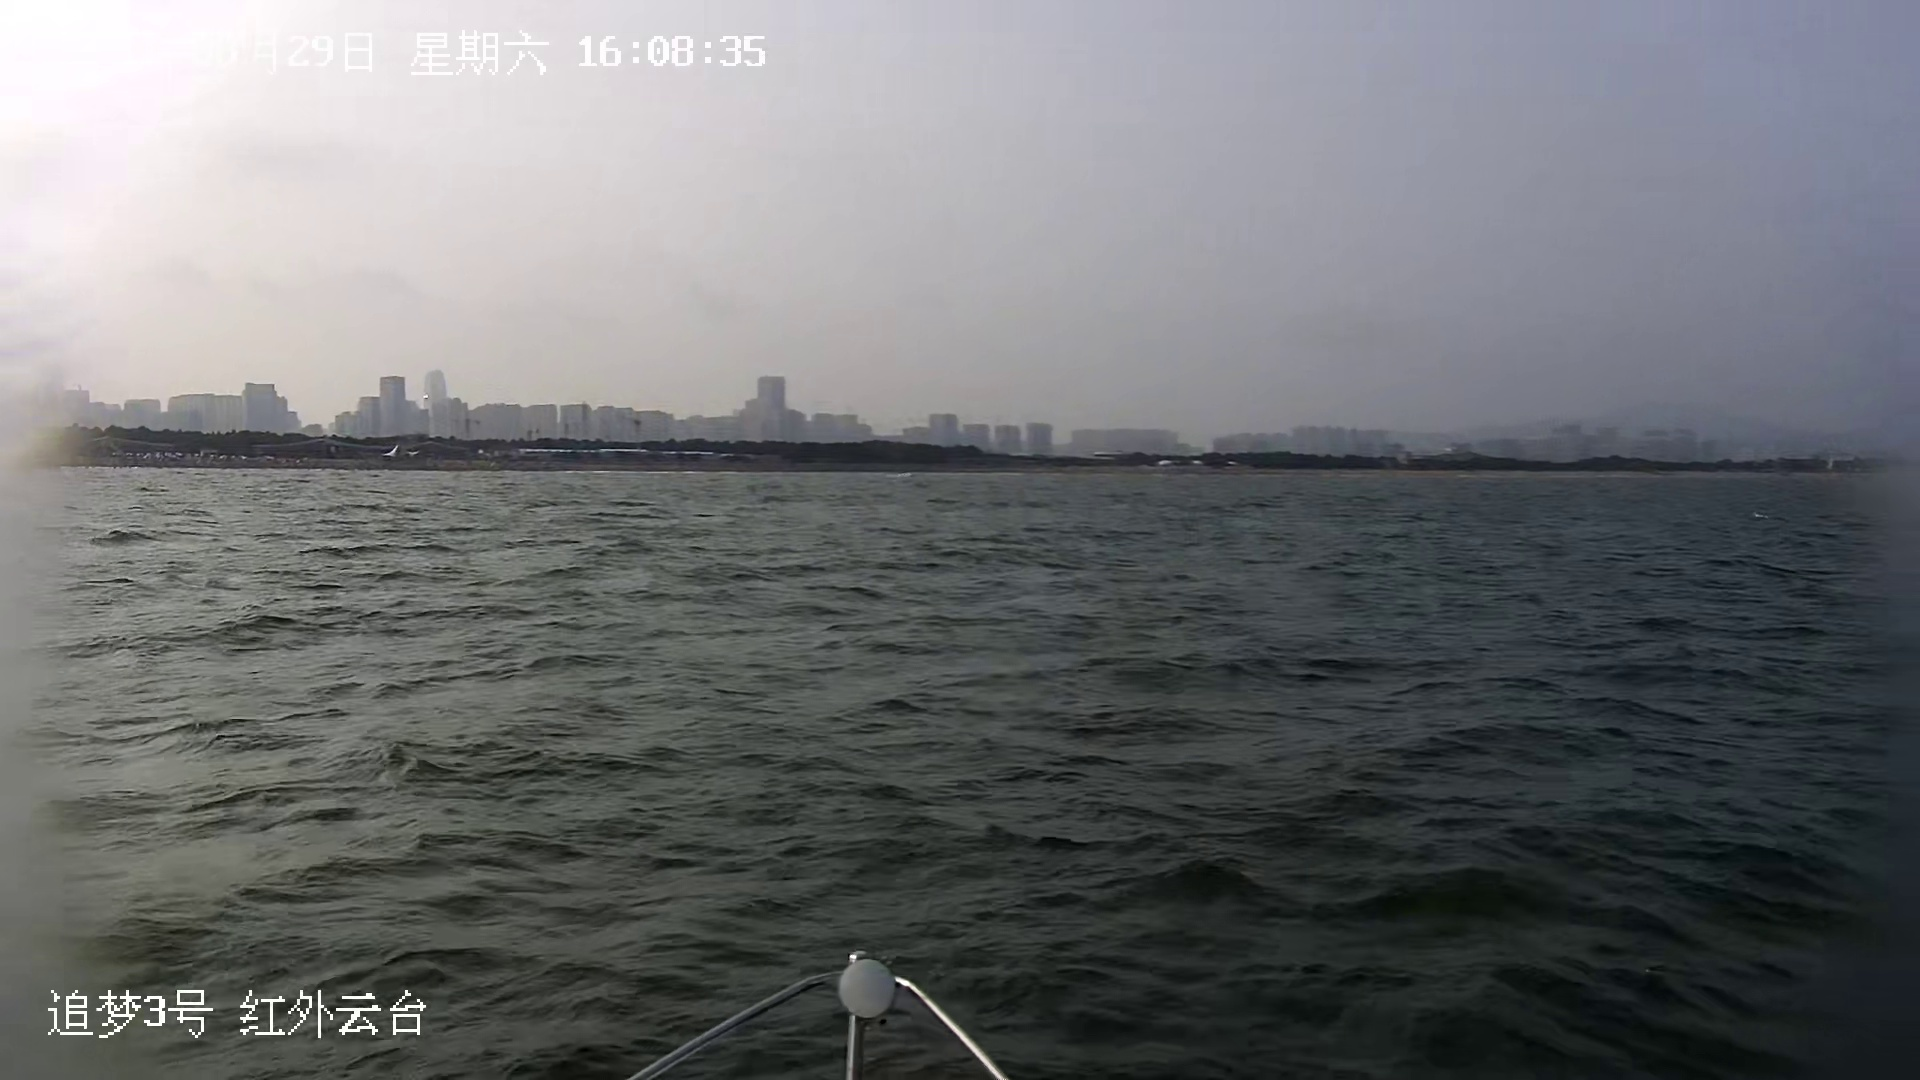coast: (25, 369, 1920, 463)
